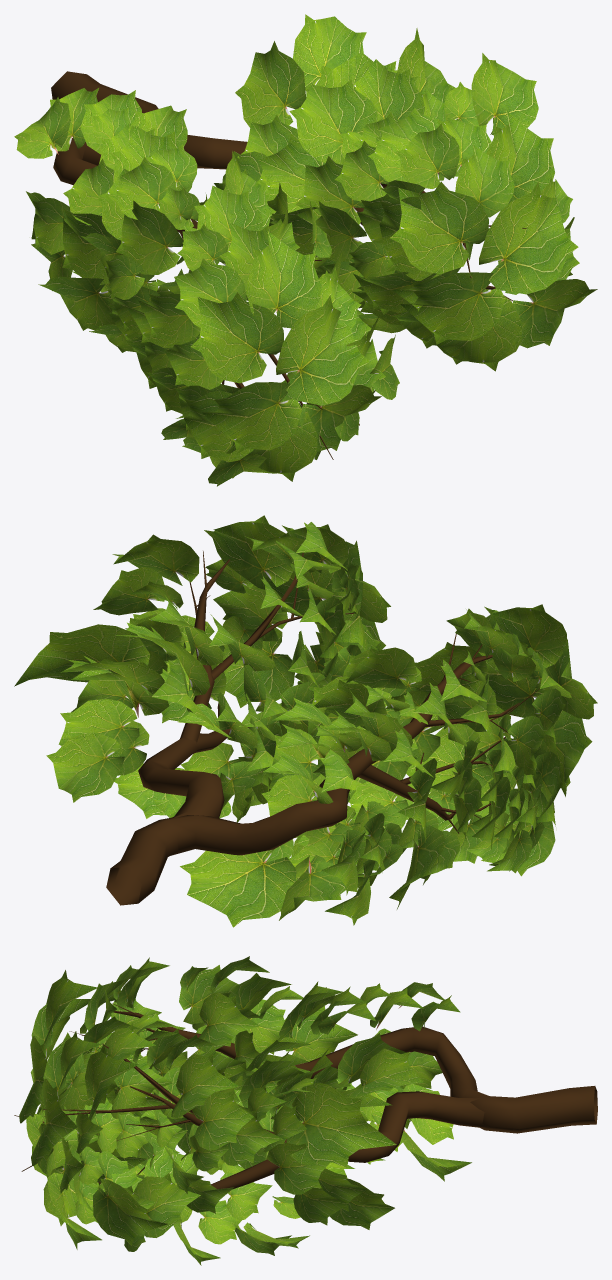
File: vine_01.obj
The picture shows the model from 3 angles, top to bottom: view 1: azimuth 30°, elevation 25°; view 2: azimuth 150°, elevation 25°; view 3: azimuth 270°, elevation 25°; orthographic projection. The views are drawn at different scales.
Visible parts, largest first — view 1: Circle.202_Circle.206, Circle.180_Circle.224, Circle.200_Circle.204, Circle.221_Circle.226, Circle.201_Circle.205, Circle.224_Circle.229, Circle.220_Circle.225, tree.001, Circle.009, Circle.031_Circle.032, Circle.004, Circle.179_Circle.181 (+60 smaller); view 2: tree.001, Circle.074_Circle.075, Circle.047_Circle.048, Circle.053_Circle.054, Circle.179_Circle.181, Circle.052_Circle.053, Circle.224_Circle.229, Circle.004, Circle.092_Circle.093, Circle.198_Circle.202, Circle.036_Circle.037, Circle.175_Circle.177 (+82 smaller); view 3: tree.001, Circle.047_Circle.048, Circle.181_Circle.183, Circle.036_Circle.037, Circle.004, Circle.046_Circle.047, Circle.092_Circle.093, Circle.003, Circle.055_Circle.056, Circle.202_Circle.206, Circle.156_Circle.158, Circle.089_Circle.090 (+62 smaller).
Boxes of the visible parts, box(x1,y1,x2,y2) form: Circle.202_Circle.206: box(479, 182, 578, 294); Circle.180_Circle.224: box(276, 295, 369, 405); Circle.200_Circle.204: box(390, 181, 488, 274); Circle.221_Circle.226: box(190, 292, 283, 383); Circle.201_Circle.205: box(400, 272, 505, 344); Circle.224_Circle.229: box(246, 231, 321, 328); Circle.220_Circle.225: box(202, 382, 301, 453); tree.001: box(51, 71, 526, 459); Circle.009: box(289, 79, 377, 164); Circle.031_Circle.032: box(235, 41, 306, 127); Circle.004: box(471, 53, 538, 135); Circle.179_Circle.181: box(486, 110, 554, 203); tree.001: box(106, 551, 539, 905); Circle.074_Circle.075: box(180, 849, 296, 927); Circle.047_Circle.048: box(14, 624, 150, 686); Circle.053_Circle.054: box(46, 733, 124, 802); Circle.179_Circle.181: box(204, 515, 294, 589); Circle.052_Circle.053: box(58, 698, 139, 757); Circle.224_Circle.229: box(484, 604, 566, 668); Circle.004: box(112, 534, 199, 585); Circle.092_Circle.093: box(343, 647, 416, 688); Circle.198_Circle.202: box(225, 625, 294, 707); Circle.036_Circle.037: box(93, 567, 164, 615); Circle.175_Circle.177: box(213, 583, 287, 641); tree.001: box(14, 1003, 597, 1189); Circle.047_Circle.048: box(286, 1082, 396, 1167); Circle.181_Circle.183: box(93, 1178, 167, 1245); Circle.036_Circle.037: box(192, 1091, 253, 1150); Circle.004: box(171, 1053, 238, 1118); Circle.046_Circle.047: box(133, 1173, 200, 1237); Circle.092_Circle.093: box(198, 992, 259, 1052); Circle.003: box(346, 1048, 423, 1098); Circle.055_Circle.056: box(267, 1142, 329, 1194); Circle.202_Circle.206: box(31, 1078, 77, 1165); Circle.156_Circle.158: box(111, 1054, 172, 1114); Circle.089_Circle.090: box(282, 1006, 357, 1061).
Bounding box in the file's own units: 0.7901 × 0.5499 × 1.07.
1 material, 1 textured.
